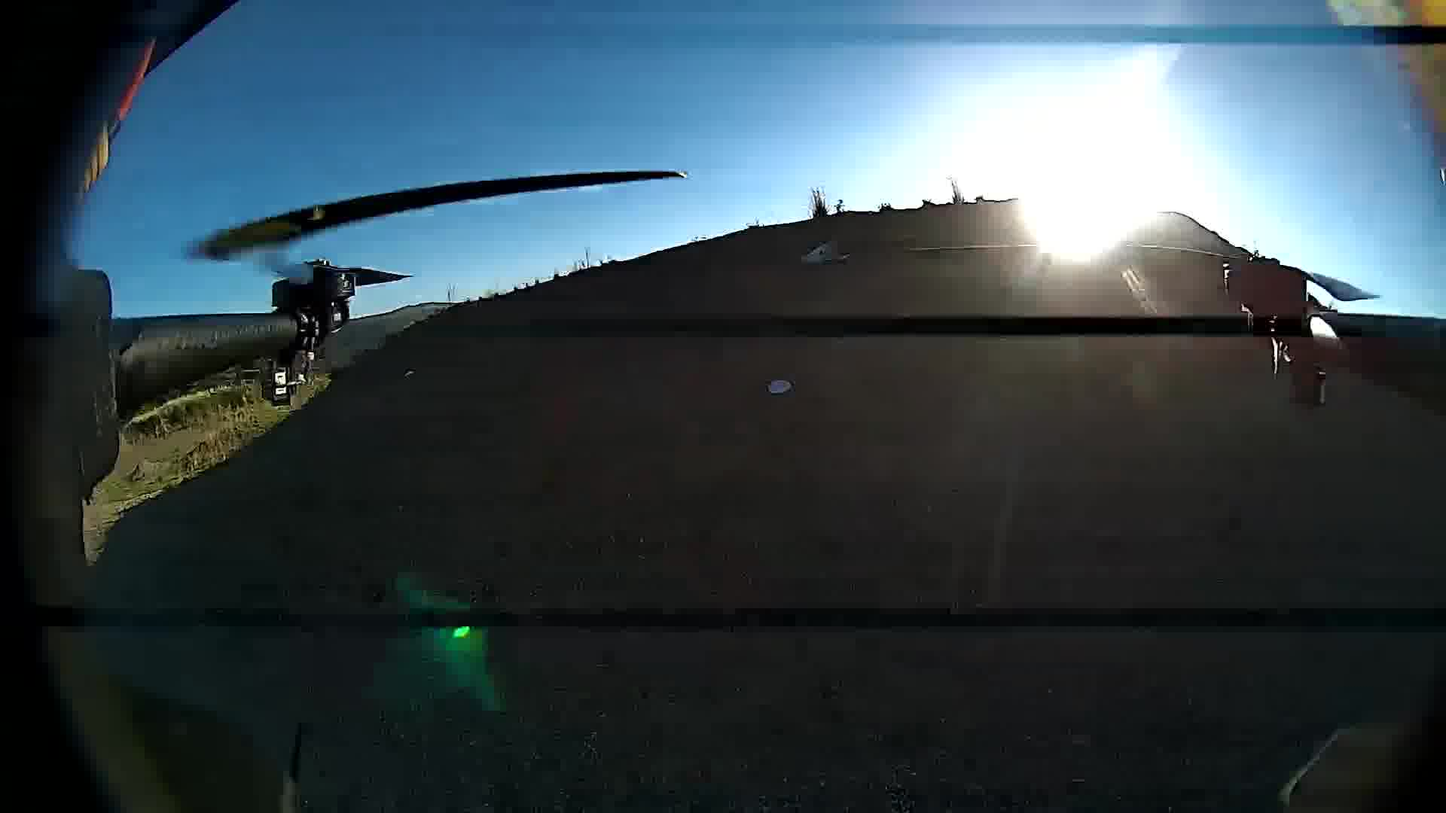Target: (767, 378, 791, 396)
